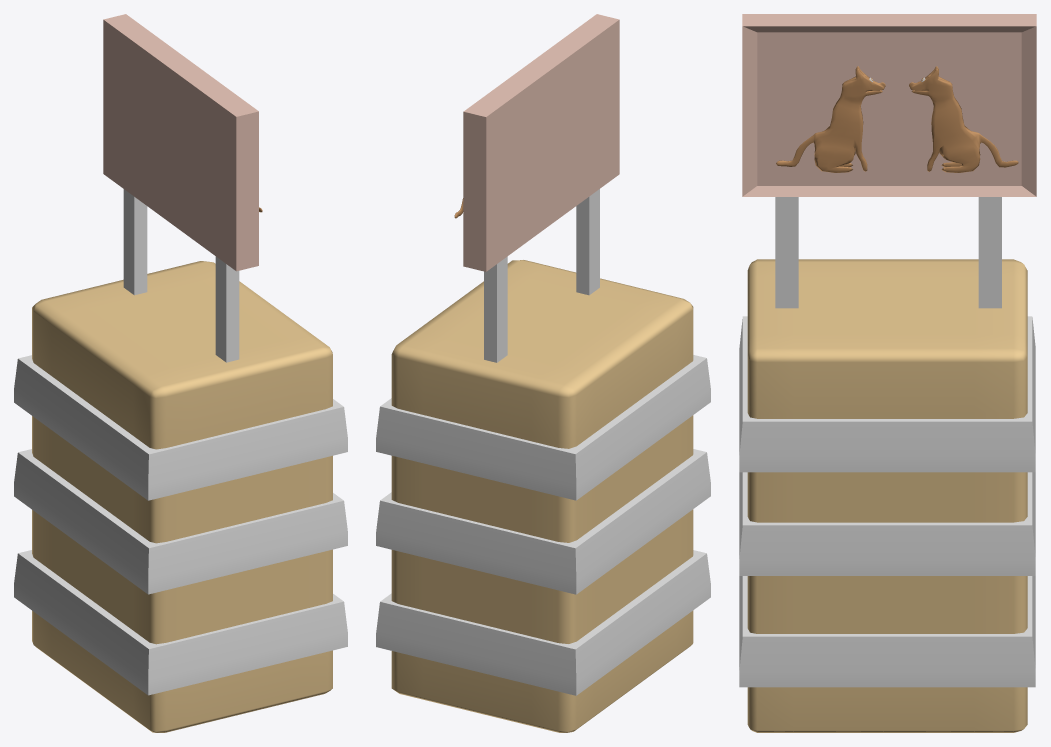
The model's file is Petbuilding.fbx.
3 views of the same model, side by side, from view 1: azimuth 30°, elevation 25°; view 2: azimuth 150°, elevation 25°; view 3: azimuth 270°, elevation 25° (orthographic). The views are drawn at different scales.
Visible parts, largest first — view 1: pCube1, pCube13, pCube27, pCube26, pCube28, pCube11, pCube12; view 2: pCube1, pCube13, pCube26, pCube28, pCube27, pCube12, pCube11; view 3: pCube1 (×2), pCube13, pCube26, pCube28, pCube27, Cat_s:pCube1, pCube11, pCube12.
Part boxes in pixels (x1=…): pCube1: x1=32, y1=261, x2=332, y2=732; pCube13: x1=103, y1=14, x2=258, y2=271; pCube27: x1=14, y1=449, x2=347, y2=594; pCube26: x1=14, y1=355, x2=347, y2=500; pCube28: x1=14, y1=550, x2=347, y2=695; pCube11: x1=215, y1=256, x2=239, y2=362; pCube12: x1=123, y1=189, x2=147, y2=295; pCube1: x1=391, y1=260, x2=693, y2=732; pCube13: x1=463, y1=14, x2=619, y2=271; pCube26: x1=376, y1=355, x2=710, y2=500; pCube28: x1=376, y1=550, x2=710, y2=695; pCube27: x1=376, y1=449, x2=710, y2=594; pCube12: x1=484, y1=256, x2=507, y2=362; pCube11: x1=576, y1=189, x2=599, y2=295; pCube1 (×2): x1=747, y1=66, x2=1027, y2=732; pCube13: x1=742, y1=14, x2=1036, y2=196; pCube26: x1=739, y1=316, x2=1035, y2=472; pCube28: x1=739, y1=576, x2=1035, y2=687; pCube27: x1=739, y1=472, x2=1035, y2=575; Cat_s:pCube1: x1=909, y1=66, x2=1018, y2=172; pCube11: x1=775, y1=197, x2=798, y2=308; pCube12: x1=978, y1=197, x2=1001, y2=308.
Size of the model in its own units: 8.81 by 25.42 by 10.28.
